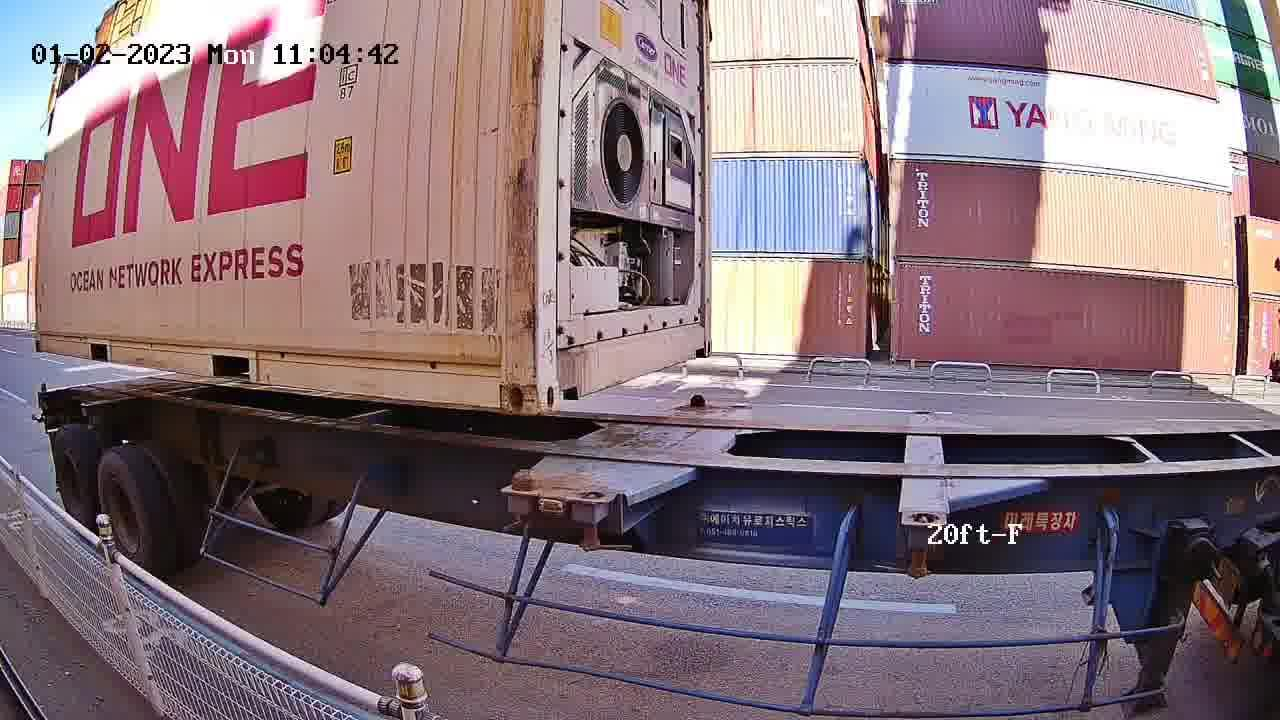Chassis: (503, 401, 708, 495), (572, 402, 750, 506)
Cone: (566, 490, 617, 554), (502, 467, 541, 527), (682, 392, 709, 412)
Hole_L: (538, 349, 588, 414)
Hole_R: (469, 350, 540, 415), (688, 322, 712, 360)
Tire: (96, 453, 153, 571), (52, 433, 95, 535)
